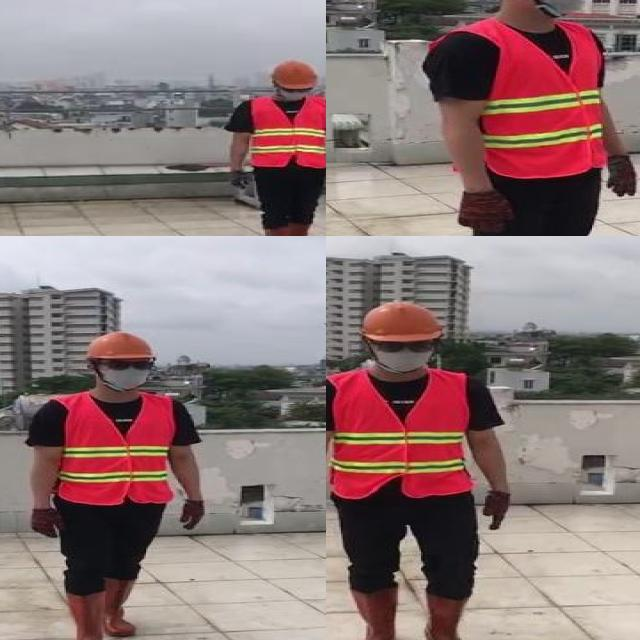boots: (349, 589, 403, 640), (424, 590, 477, 640), (64, 590, 108, 640), (103, 579, 139, 638), (289, 219, 325, 236), (259, 223, 293, 236)
face_mask: (371, 333, 435, 370), (98, 358, 153, 389), (533, 0, 595, 14), (274, 83, 316, 102)
glasses: (370, 336, 436, 354), (104, 357, 158, 373)
hand_glove: (457, 193, 515, 231), (606, 155, 640, 197), (483, 490, 508, 533), (30, 507, 64, 538), (180, 500, 204, 531), (228, 166, 252, 192)
head_helmet: (361, 299, 445, 343), (83, 330, 154, 363), (264, 58, 323, 91)
person: (326, 295, 529, 640), (15, 328, 216, 640), (413, 0, 640, 236), (218, 56, 326, 236)
vest: (473, 24, 606, 179), (326, 370, 470, 496), (55, 394, 171, 505), (249, 95, 326, 169)
